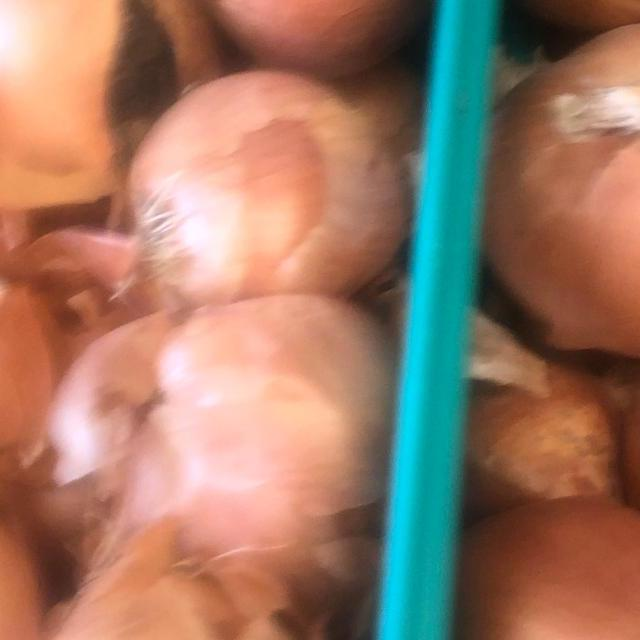onion: (115, 75, 418, 312), (482, 7, 640, 365), (462, 485, 640, 640)
